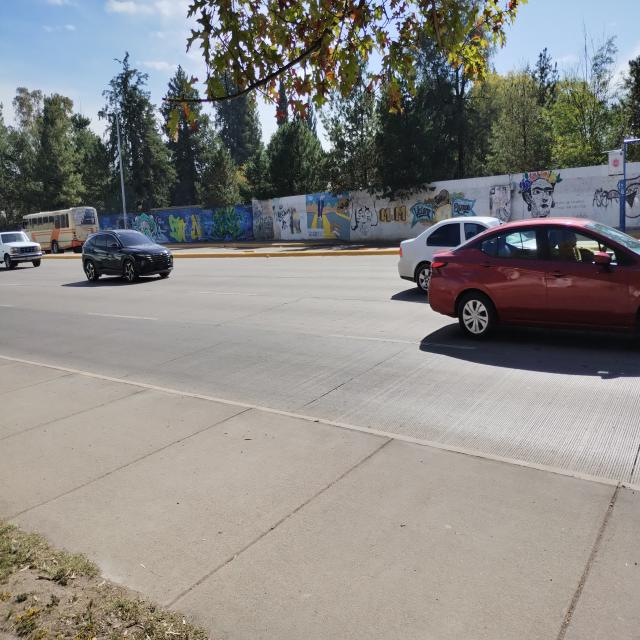Auto: (423, 214, 640, 343), (82, 229, 174, 282), (0, 230, 44, 270)
Autobus: (20, 206, 98, 252)
